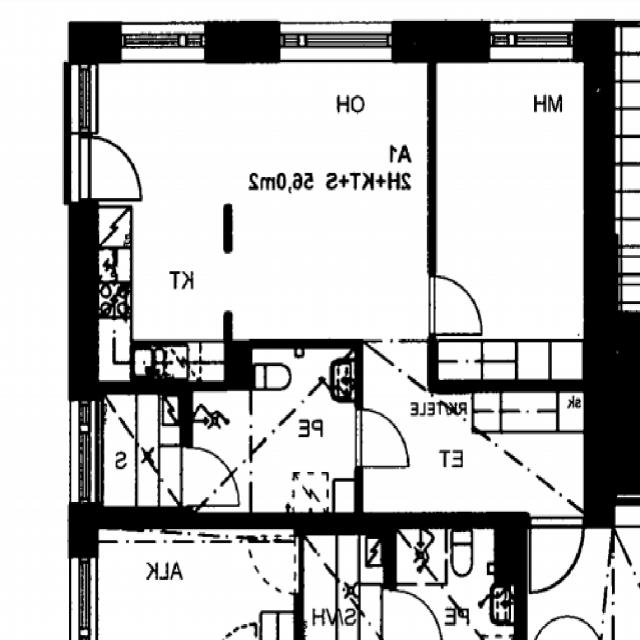door: (70, 137, 140, 197), (532, 512, 583, 592), (182, 447, 240, 505), (354, 408, 410, 466), (428, 276, 483, 333)
